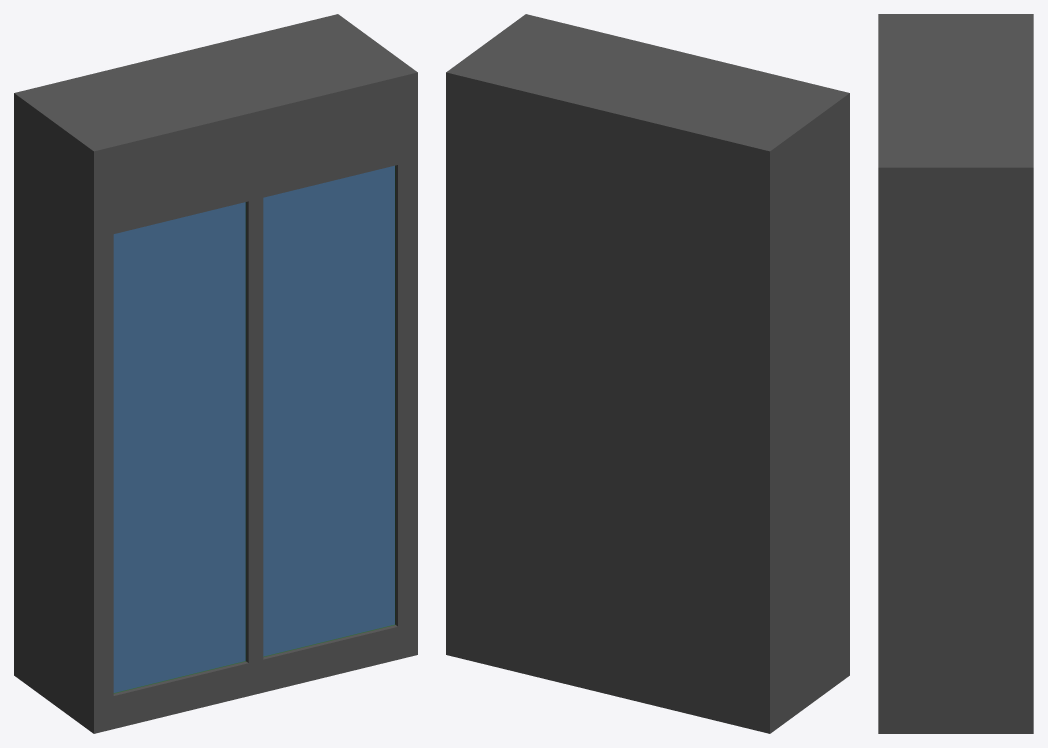
The model's file is Display fridge_1_.fbx.
3 renders of one model, left to right at view 1: azimuth 30°, elevation 25°; view 2: azimuth 150°, elevation 25°; view 3: azimuth 270°, elevation 25°, orthographic. The views are drawn at different scales.
Parts seen in each view (by area): view 1: Display fridge, Group001; view 2: Display fridge; view 3: Display fridge.
Boxes of the visible parts, x1,y1,x2,y2 form: Display fridge: (14,14,417,733); Group001: (113,165,394,692); Display fridge: (446,14,849,733); Display fridge: (878,14,1033,733).
Size of the model in its own units: 74.05 by 127 by 31.59.
